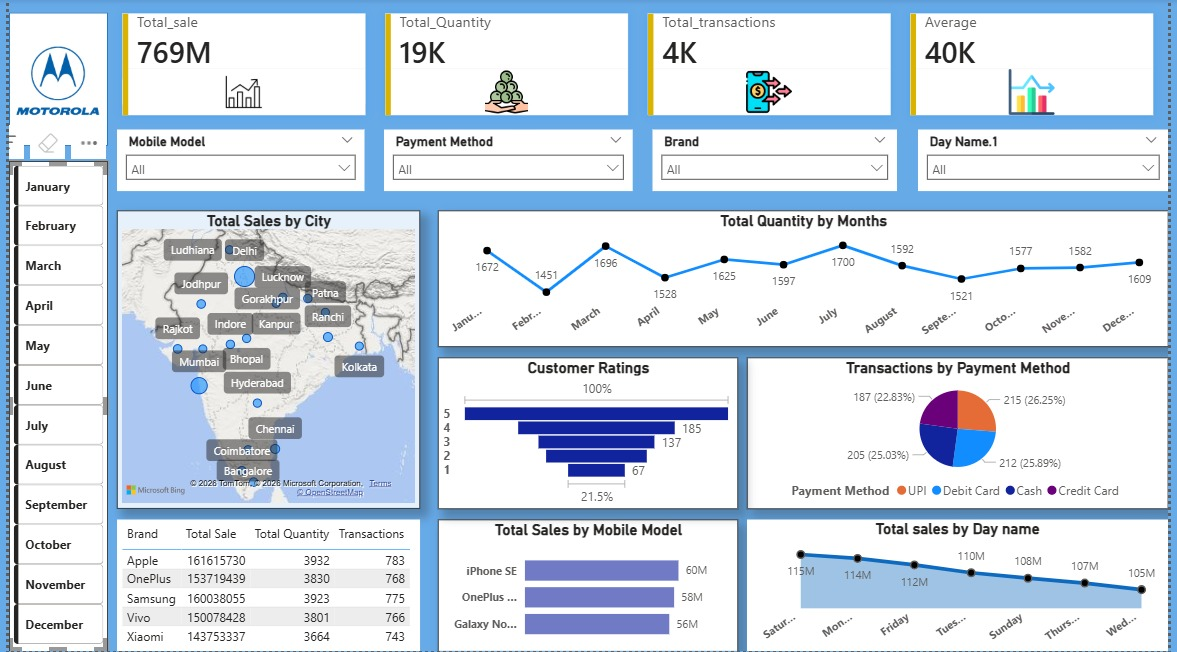

This screenshot's page, from the dashboard's own definition file:
{"tool":"powerbi","page":{"name":"Page 1","canvas":[1280,720],"ordinal":0},"visuals":[{"type":"advancedSlicerVisual","fields":{"Values":["Sales_Data.Dates.Variation.Date Hierarchy.Month"]},"box":[0,178.9,109.3,541.7],"z":0},{"type":"cardVisual","fields":{"Data":["Sales_Data.Total_sale","Sales_Data.Total_Quantity","Sales_Data.Total_transactions","Sales_Data.Average"]},"box":[109.3,0,1171.1,144.1],"z":1000},{"type":"map","title":"Total Sales by City","fields":{"Category":["Sales_Data.City"],"Size":["Sales_Data.Total_sale"]},"box":[119.3,233.6,334.6,329.6],"z":2000},{"type":"lineChart","title":"Total Quantity by Months","fields":{"Category":["Sales_Data.Dates.Variation.Date Hierarchy.Month","Sales_Data.Dates.Variation.Date Hierarchy.Day"],"Y":["Sales_Data.Total_Quantity"]},"box":[473.8,233.6,806.7,150.7],"z":3000},{"type":"clusteredBarChart","title":"Total Sales by Mobile Model","fields":{"Category":["Sales_Data.Mobile Model"],"Y":["Sales_Data.Total_sale"]},"box":[473.8,574.8,331.3,145.8],"z":3001},{"type":"pieChart","title":"Transactions by Payment Method","fields":{"Category":["Sales_Data.Payment Method"],"Y":["Sales_Data.Total_transactions"]},"box":[815,395.9,465.5,167.3],"z":3002},{"type":"funnel","title":"Customer Ratings","fields":{"Category":["Sales_Data.Customer Ratings"],"Y":["CountNonNull(Sales_Data.Customer Ratings)"]},"box":[473.8,395.9,331.3,167.3],"z":3003},{"type":"areaChart","title":"Total sales by Day name","fields":{"Category":["Sales_Data.Day Name.1"],"Y":["Sales_Data.Total_sale"]},"box":[815,574.8,465.5,145.8],"z":3004},{"type":"tableEx","fields":{"Values":["Sales_Data.Brand","Sales_Data.Total_sale","Sales_Data.Total_Quantity","Sales_Data.Total_transactions"]},"box":[119.3,574.8,334.6,145.8],"z":3005},{"type":"slicer","fields":{"Values":["Sales_Data.Mobile Model"]},"box":[119.3,144.1,273.3,67.9],"z":3006},{"type":"slicer","fields":{"Values":["Sales_Data.Payment Method"]},"box":[414.1,144.1,275,67.9],"z":3007},{"type":"slicer","fields":{"Values":["Sales_Data.Brand"]},"box":[710.6,144.1,270,67.9],"z":3008},{"type":"slicer","fields":{"Values":["Sales_Data.Day Name.1"]},"box":[1003.8,144.1,276.6,67.9],"z":3009},{"type":"shape","box":[0,14.9,109.3,147.4],"z":3010},{"type":"image","box":[8.3,16.6,91.1,147.4],"z":3011}]}

Visuals, with their boxes in screenshot pixels (x1, y1, x2, y2):
advancedSlicerVisual - Sales_Data.Dates.Variation.Date Hierarchy.Month: [x1=12, y1=160, x2=110, y2=644]
cardVisual - Sales_Data.Total_sale x Sales_Data.Total_Quantity: [x1=110, y1=0, x2=1157, y2=129]
"Total Sales by City" map: [x1=119, y1=209, x2=418, y2=504]
"Total Quantity by Months" lineChart: [x1=436, y1=209, x2=1157, y2=344]
"Total Sales by Mobile Model" clusteredBarChart: [x1=436, y1=514, x2=732, y2=644]
"Transactions by Payment Method" pieChart: [x1=741, y1=354, x2=1157, y2=504]
"Customer Ratings" funnel: [x1=436, y1=354, x2=732, y2=504]
"Total sales by Day name" areaChart: [x1=741, y1=514, x2=1157, y2=644]
tableEx - Sales_Data.Brand x Sales_Data.Total_sale: [x1=119, y1=514, x2=418, y2=644]
slicer - Sales_Data.Mobile Model: [x1=119, y1=129, x2=363, y2=190]
slicer - Sales_Data.Payment Method: [x1=383, y1=129, x2=628, y2=190]
slicer - Sales_Data.Brand: [x1=648, y1=129, x2=889, y2=190]
slicer - Sales_Data.Day Name.1: [x1=910, y1=129, x2=1157, y2=190]
shape: [x1=12, y1=13, x2=110, y2=145]
image: [x1=20, y1=15, x2=101, y2=147]
